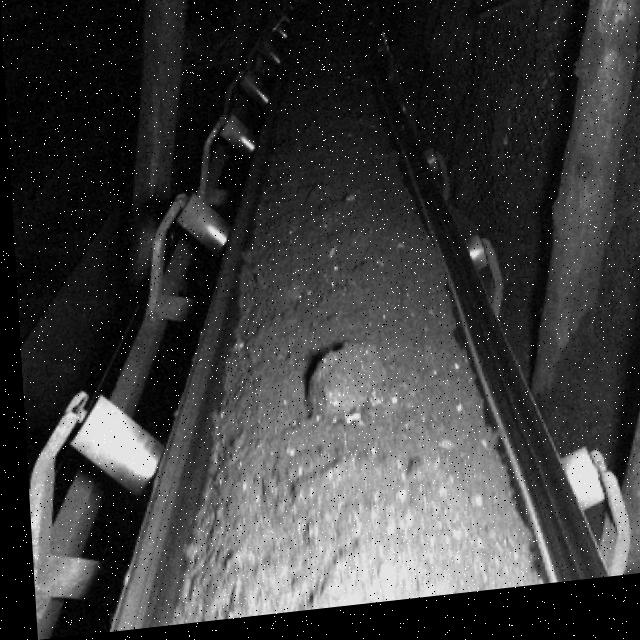large_sized_coal: (299, 347, 394, 433)
